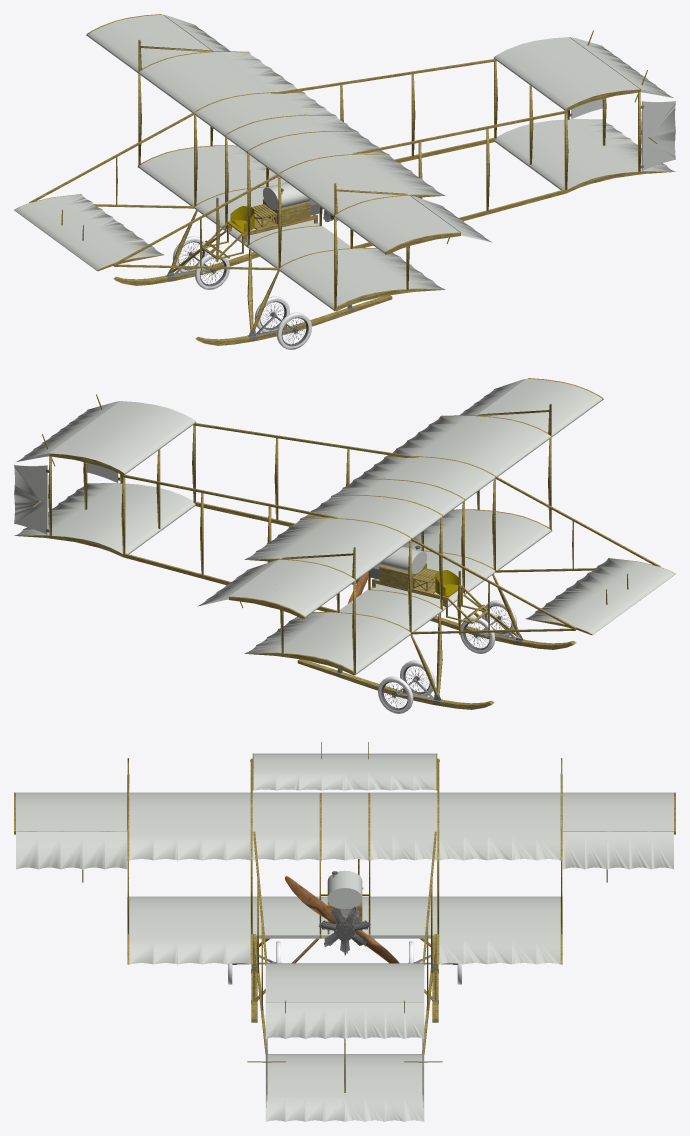
File: farmanIV.glb
3 views of the same model, one above another, from view 1: azimuth 30°, elevation 25°; view 2: azimuth 150°, elevation 25°; view 3: azimuth 270°, elevation 25° (orthographic). The views are drawn at different scales.
Visible parts, largest first — view 1: Farman+IV[1].292, Farman+IV[1].303, Farman+IV[1].115, Farman+IV[1].295, Farman+IV[1].128, Farman+IV[1].311, Farman+IV[1].111, Farman+IV[1].291, Farman+IV[1].114, Farman+IV[1].281, Farman+IV[1].310, Farman+IV[1].138 (+40 smaller); view 2: Farman+IV[1].292, Farman+IV[1].303, Farman+IV[1].115, Farman+IV[1].128, Farman+IV[1].295, Farman+IV[1].311, Farman+IV[1].111, Farman+IV[1].114, Farman+IV[1].291, Farman+IV[1].136, Farman+IV[1].281, Farman+IV[1].138 (+39 smaller); view 3: Farman+IV[1].303, Farman+IV[1].292, Farman+IV[1].128, Farman+IV[1].115, Farman+IV[1].111, Farman+IV[1].295, Farman+IV[1].311, Farman+IV[1].114, Farman+IV[1].291, Farman+IV[1].287, Farman+IV[1].138, Farman+IV[1].281 (+49 smaller).
Part boxes in pixels (x1=…): Farman+IV[1].292: x1=279, y1=154, x2=432, y2=207; Farman+IV[1].303: x1=279, y1=248, x2=432, y2=302; Farman+IV[1].115: x1=160, y1=68, x2=303, y2=112; Farman+IV[1].295: x1=334, y1=195, x2=449, y2=246; Farman+IV[1].128: x1=160, y1=162, x2=286, y2=206; Farman+IV[1].311: x1=55, y1=224, x2=163, y2=270; Farman+IV[1].111: x1=502, y1=125, x2=637, y2=166; Farman+IV[1].291: x1=247, y1=131, x2=378, y2=167; Farman+IV[1].114: x1=204, y1=100, x2=334, y2=136; Farman+IV[1].281: x1=529, y1=63, x2=631, y2=103; Farman+IV[1].310: x1=642, y1=101, x2=675, y2=170; Farman+IV[1].138: x1=25, y1=202, x2=122, y2=240; Farman+IV[1].292: x1=386, y1=424, x2=540, y2=476; Farman+IV[1].303: x1=403, y1=518, x2=540, y2=570; Farman+IV[1].115: x1=268, y1=518, x2=410, y2=563; Farman+IV[1].128: x1=268, y1=612, x2=410, y2=657; Farman+IV[1].295: x1=478, y1=386, x2=592, y2=436; Farman+IV[1].311: x1=567, y1=558, x2=675, y2=604; Farman+IV[1].111: x1=23, y1=509, x2=160, y2=550; Farman+IV[1].114: x1=311, y1=495, x2=442, y2=531; Farman+IV[1].291: x1=355, y1=464, x2=485, y2=500; Farman+IV[1].136: x1=14, y1=465, x2=47, y2=534; Farman+IV[1].281: x1=85, y1=407, x2=187, y2=448; Farman+IV[1].138: x1=536, y1=588, x2=634, y2=626; Farman+IV[1].303: x1=153, y1=896, x2=250, y2=964; Farman+IV[1].292: x1=153, y1=792, x2=250, y2=860; Farman+IV[1].128: x1=439, y1=896, x2=511, y2=964; Farman+IV[1].115: x1=439, y1=792, x2=511, y2=860; Farman+IV[1].111: x1=345, y1=1054, x2=404, y2=1121; Farman+IV[1].295: x1=38, y1=792, x2=127, y2=831; Farman+IV[1].311: x1=253, y1=753, x2=344, y2=790; Farman+IV[1].114: x1=370, y1=792, x2=414, y2=860; Farman+IV[1].291: x1=275, y1=792, x2=319, y2=860; Farman+IV[1].287: x1=305, y1=1054, x2=344, y2=1121; Farman+IV[1].138: x1=345, y1=753, x2=413, y2=790; Farman+IV[1].281: x1=285, y1=963, x2=344, y2=1002.
Bounding box in the file's own units: 11.89 × 3.89 × 10.54.
Materials: 12 (2 with a texture image).
